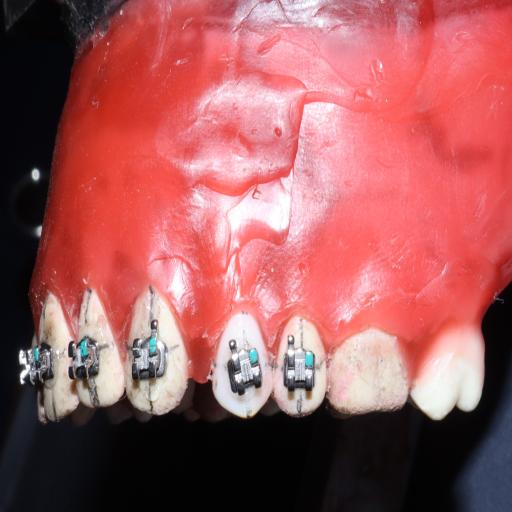correct_brace: (207, 308, 275, 423)
